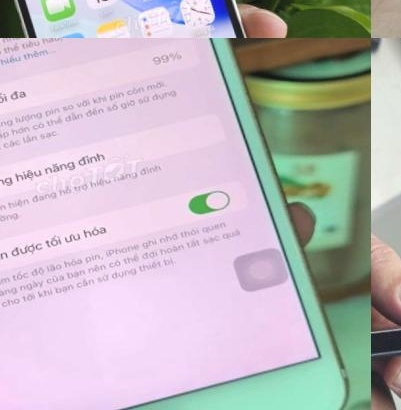scratch: (296, 359, 330, 390), (129, 405, 167, 410)
